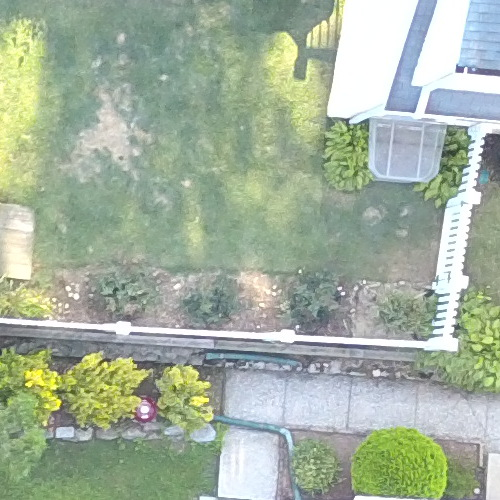gutter: (199, 399, 316, 500)
